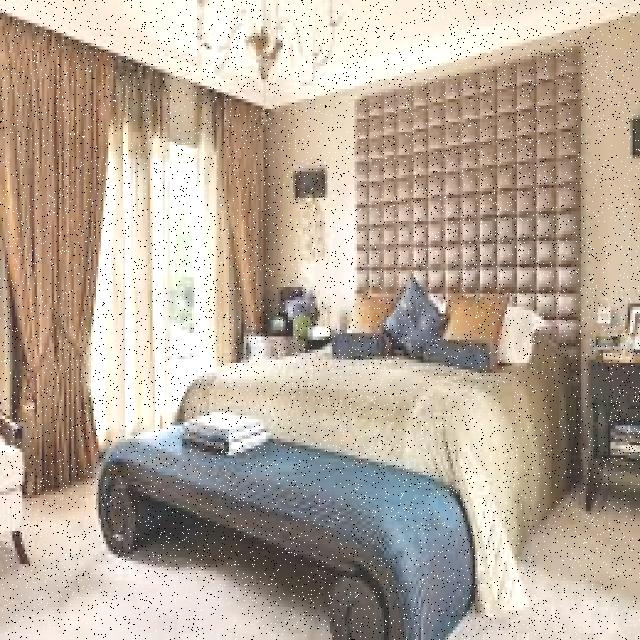bed: (177, 270, 568, 440)
